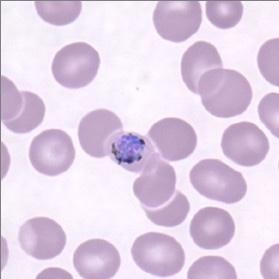Infected: (104, 129, 159, 172)
Uninfected: (199, 69, 253, 119), (188, 159, 246, 203), (182, 41, 224, 97), (28, 127, 76, 176), (51, 42, 100, 90), (132, 233, 185, 277), (221, 121, 270, 167), (78, 109, 123, 159), (148, 116, 197, 161), (132, 160, 177, 208), (152, 0, 202, 43), (19, 216, 67, 260), (189, 207, 235, 250), (141, 187, 190, 227), (73, 239, 120, 279), (4, 91, 45, 133), (205, 0, 243, 29)
